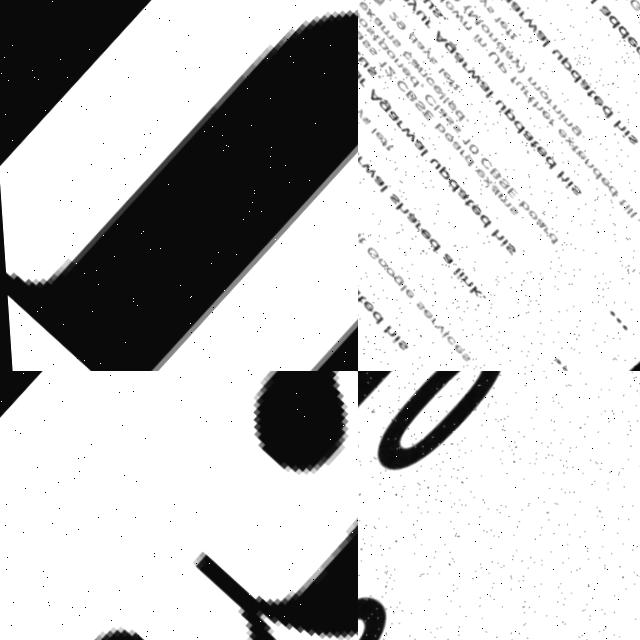0: (358, 371, 569, 545), (460, 149, 475, 164), (443, 0, 458, 11)
1: (372, 63, 383, 75), (454, 143, 466, 154)
2: (376, 69, 392, 86), (383, 16, 396, 30)
3: (0, 371, 358, 640)
5: (615, 0, 630, 13)
9: (390, 24, 404, 39)
U: (0, 0, 358, 371)
